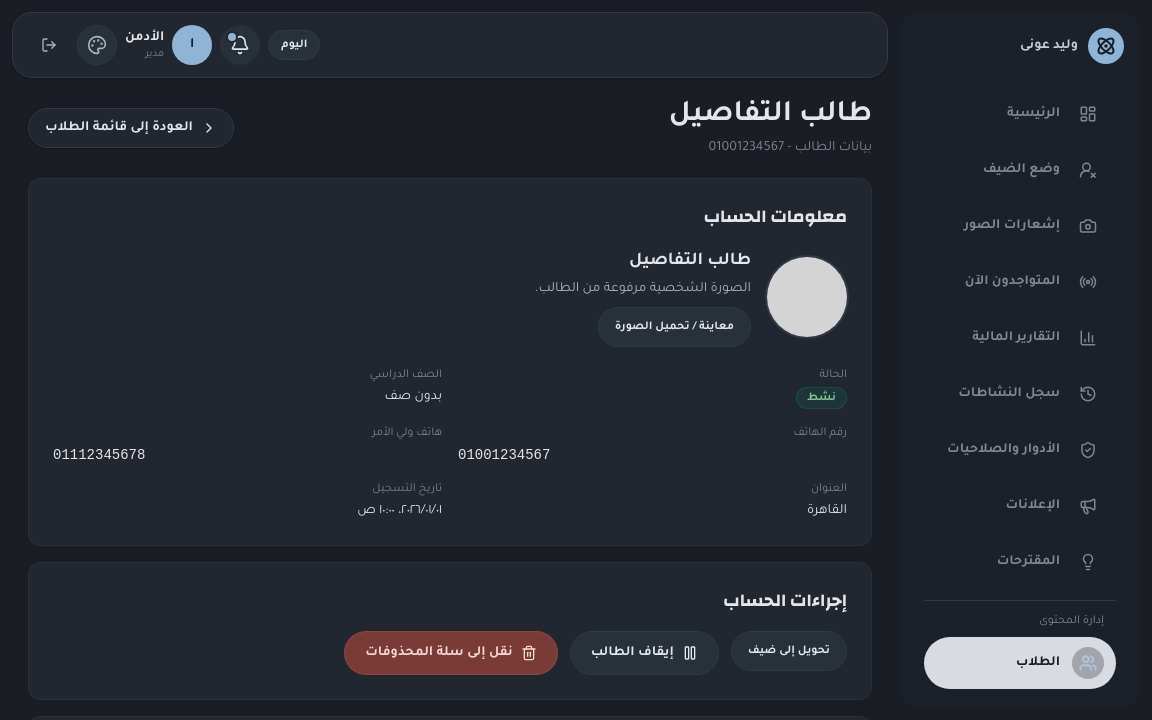
Test case: StudentDetailPage › downloads the photo to the device from the preview
Expected: the heading "طالب التفاصيل" is shown, [669, 98, 872, 134]
Click the button "معاينة / تحميل الصورة" at (674,327), box [598, 307, 751, 347]
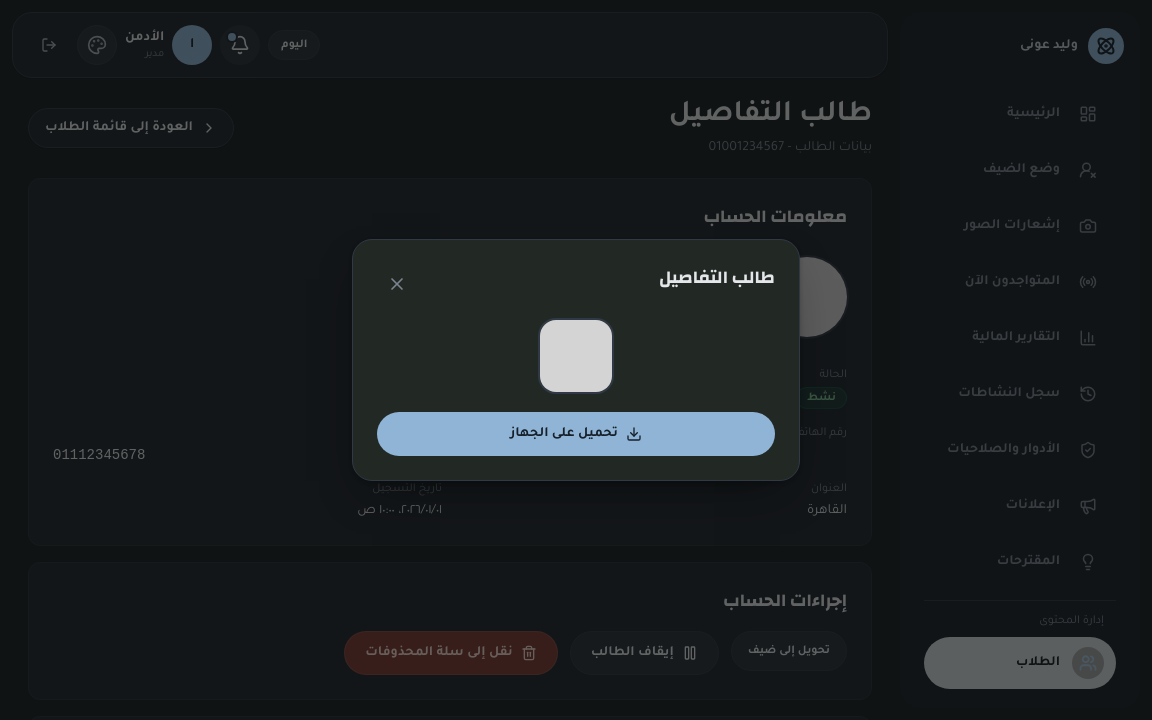
Now the dialog with test id "avatar-preview-dialog" is shown
Click the button with test id "avatar-download" at (576,434), box [377, 412, 775, 456]
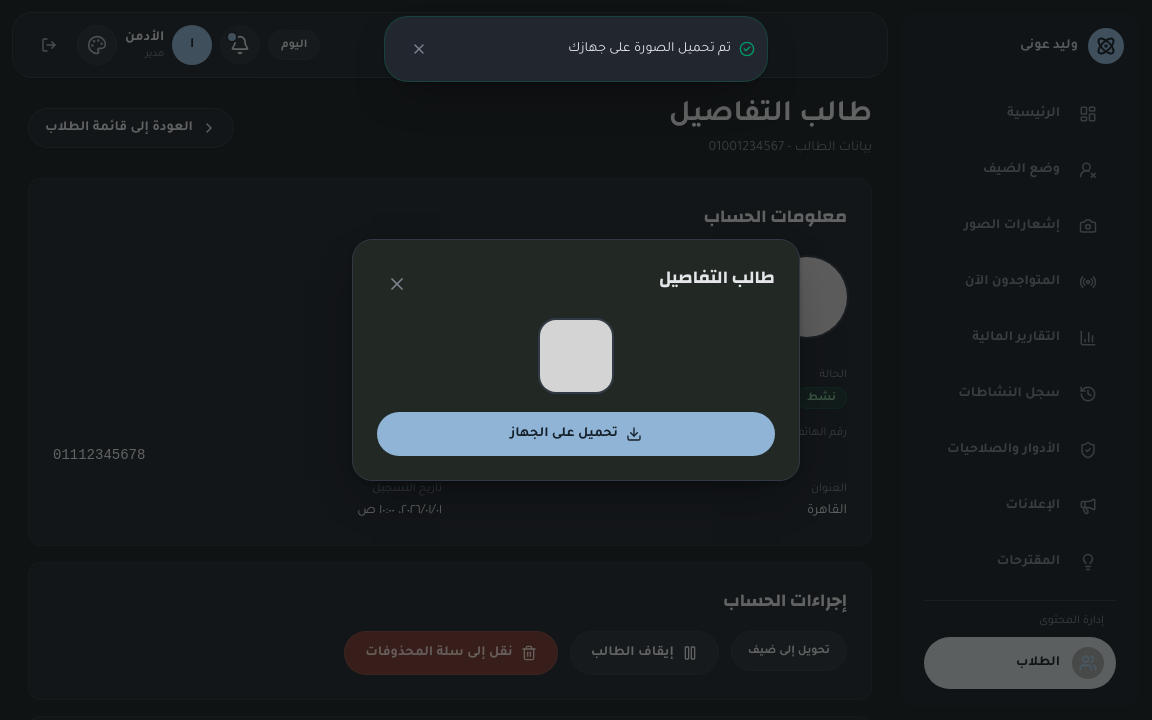
Now the text "تم تحميل الصورة على جهازك" is shown, box [568, 42, 731, 56]
